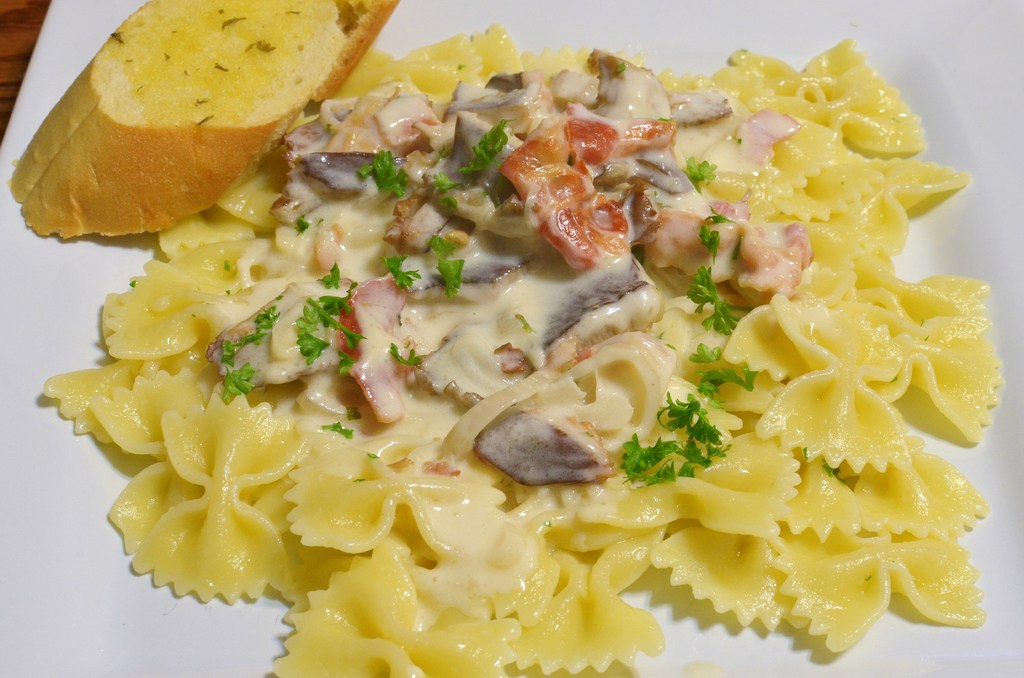pasta: (67, 1, 954, 672)
